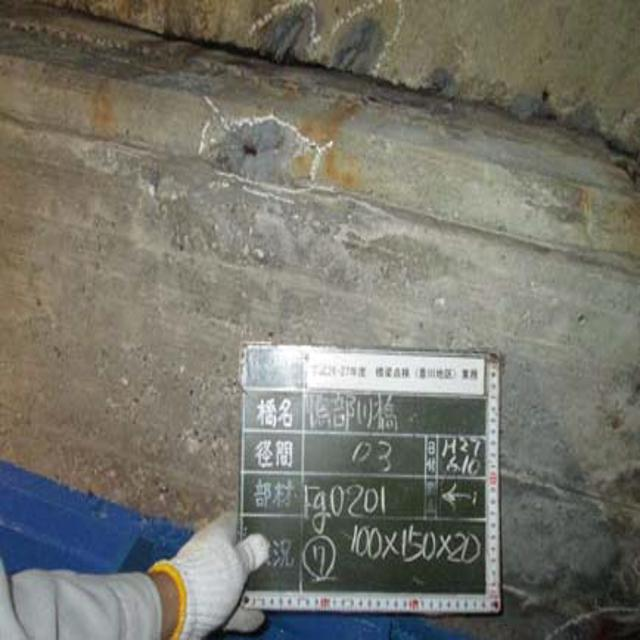spalling: (196, 110, 317, 203)
